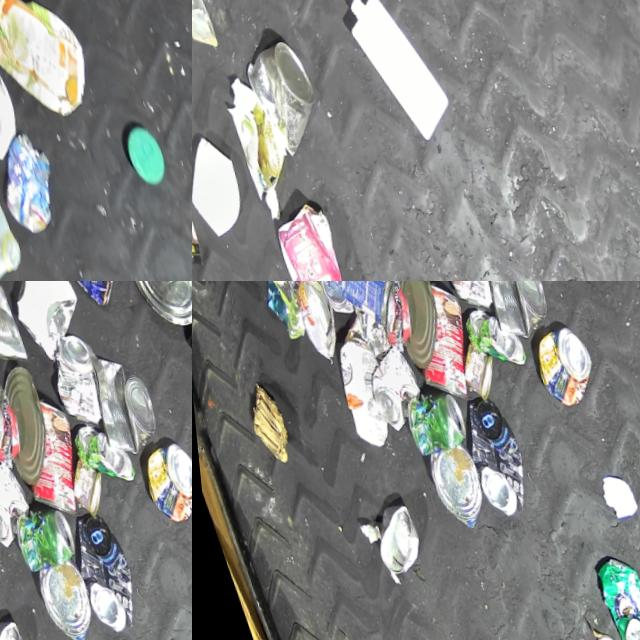can: (216, 11, 339, 175), (386, 281, 484, 407), (0, 393, 93, 523), (54, 511, 141, 638), (445, 395, 532, 522), (74, 345, 162, 461), (0, 122, 66, 245), (36, 329, 113, 431), (0, 362, 60, 486), (370, 281, 451, 370), (520, 322, 598, 412), (353, 342, 427, 435), (414, 443, 486, 534), (303, 281, 408, 337), (23, 559, 95, 640), (129, 438, 192, 528), (464, 281, 553, 344), (3, 502, 76, 575), (394, 386, 467, 459), (355, 502, 421, 582), (580, 553, 640, 640), (64, 417, 132, 491), (455, 301, 523, 375), (282, 281, 343, 363), (118, 281, 192, 336), (57, 454, 108, 519), (448, 338, 499, 403), (0, 457, 35, 550), (426, 281, 504, 315), (0, 281, 27, 374), (51, 281, 122, 315), (309, 281, 350, 318), (177, 299, 192, 369)
